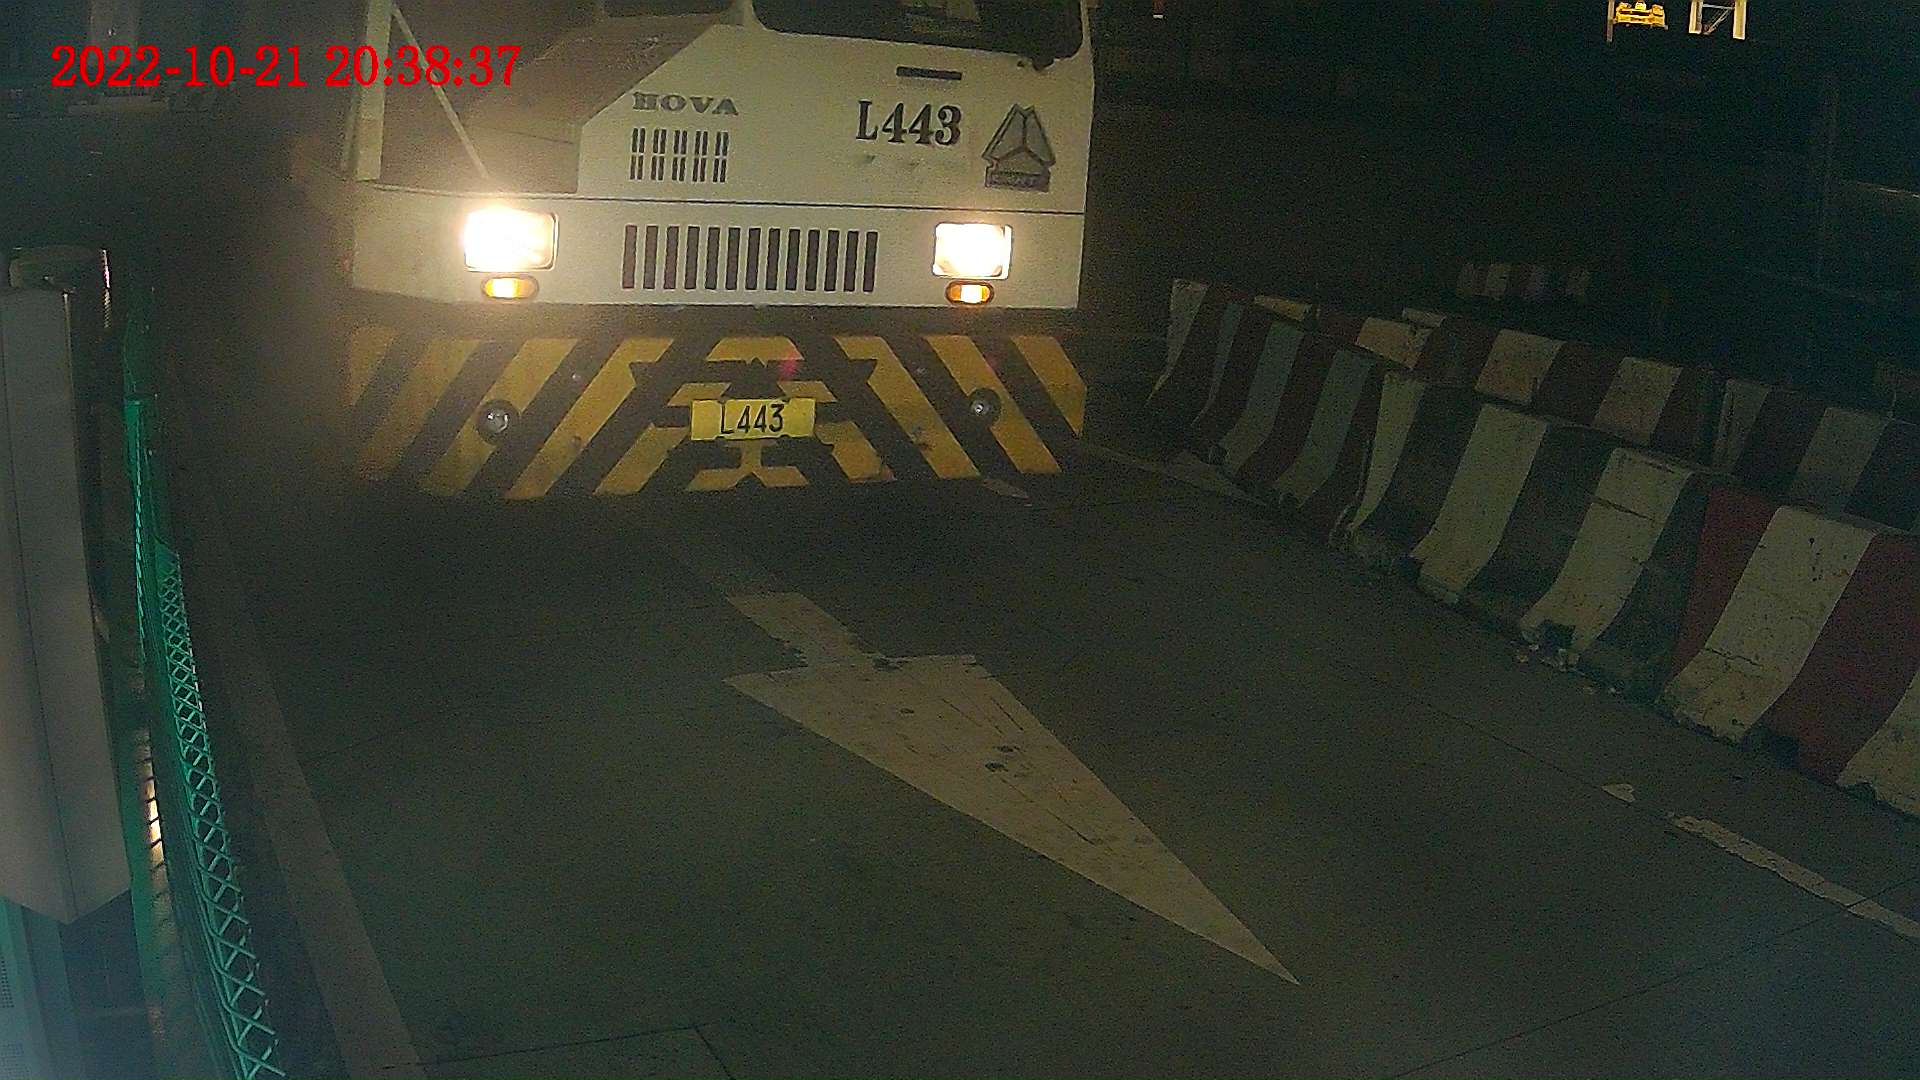head: (266, 1, 1089, 543)
plate: (689, 395, 813, 432)
